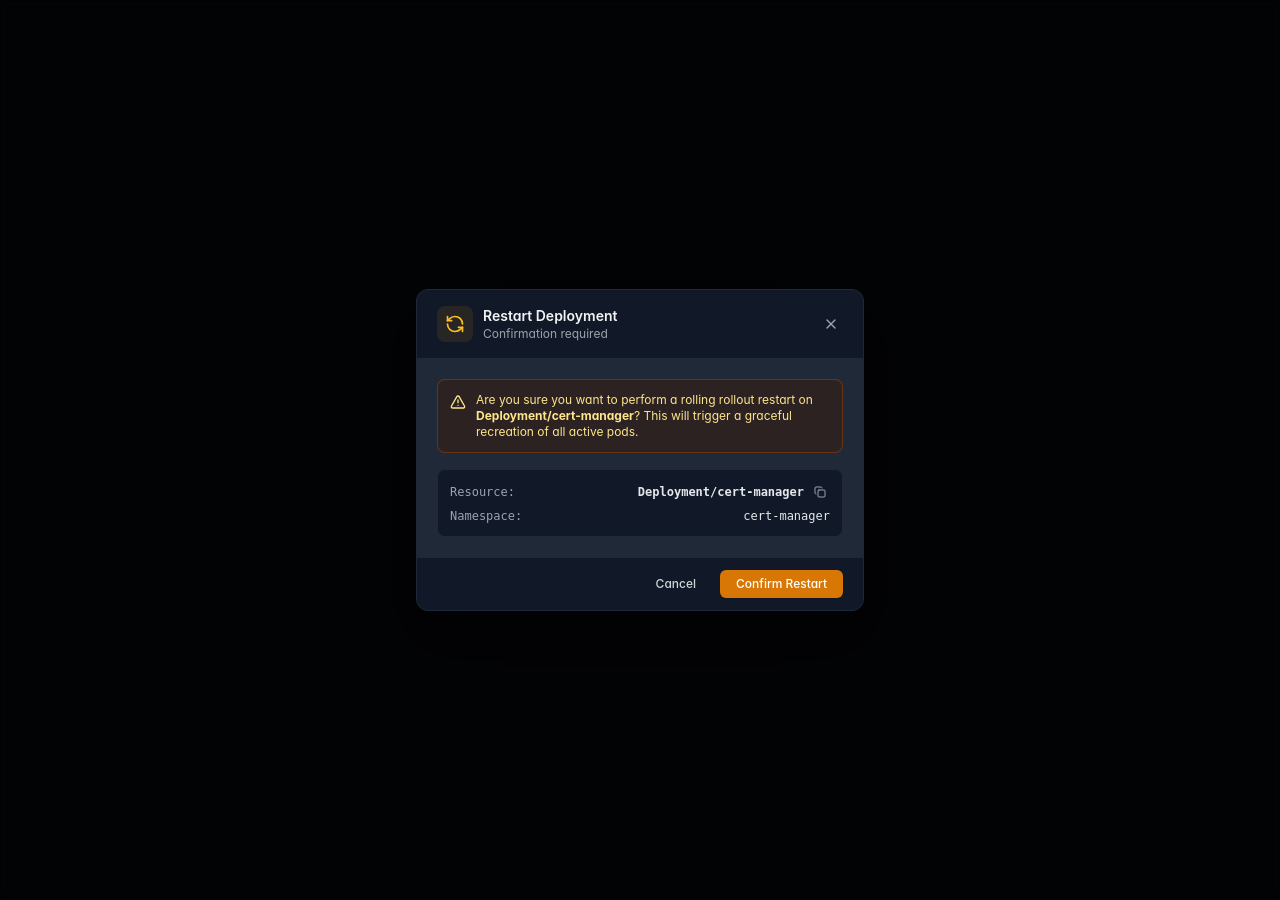
Test case: ConfirmationModal › blocks confirmation when in Read-Only mode
The image size is (1280, 900).
Click the button "Confirm Restart".
click(782, 584)  # box x1=720 y1=570 x2=843 y2=598
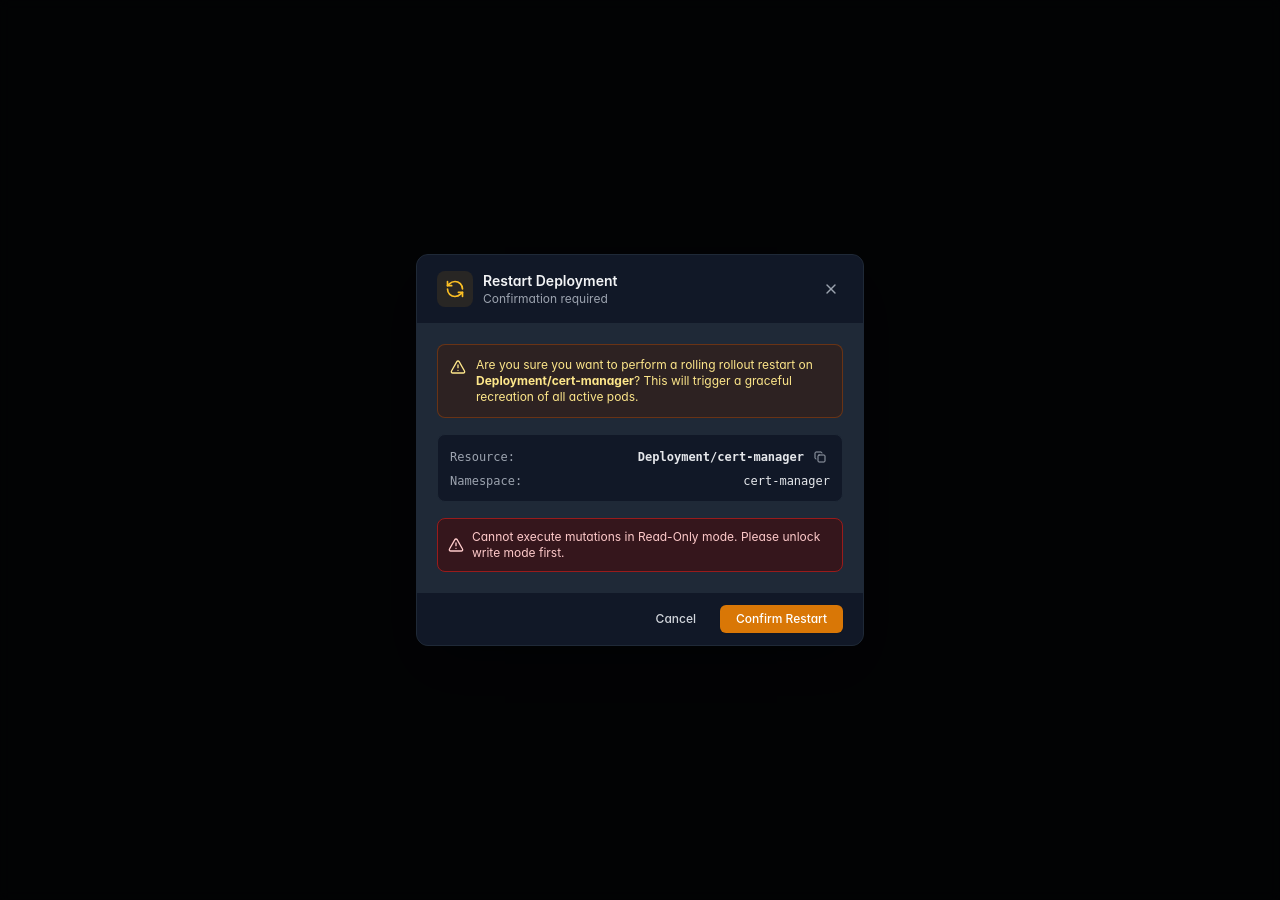
Check: the text "Cannot execute mutations in Read-Only mode" is shown, box x1=472 y1=529 x2=820 y2=560
